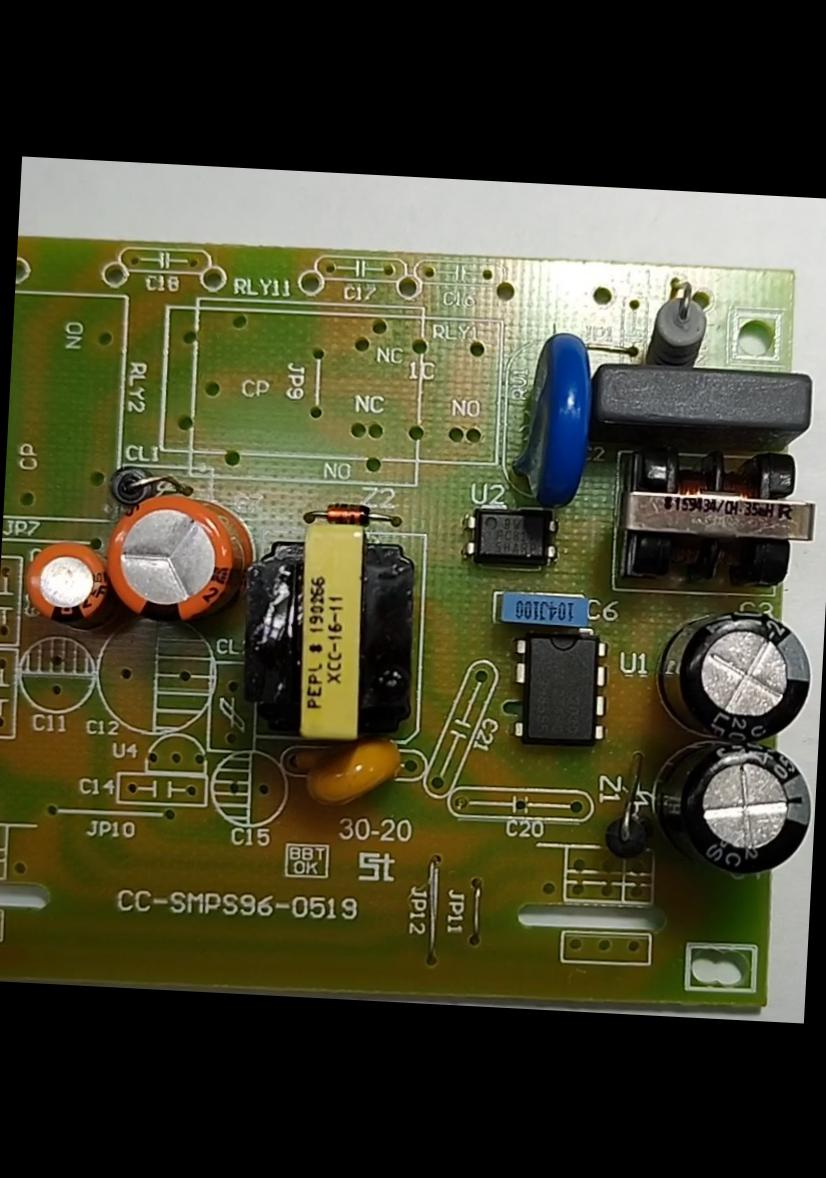Cap1: (101, 489, 249, 627)
Cap2: (24, 542, 104, 624)
Cap3: (656, 606, 816, 743)
Cap4: (652, 737, 818, 880)
MOSFET: (508, 630, 612, 742)
Mov: (516, 326, 600, 506)
Resistor: (640, 276, 715, 367)
Transformer: (242, 514, 426, 749), (613, 442, 820, 600)
